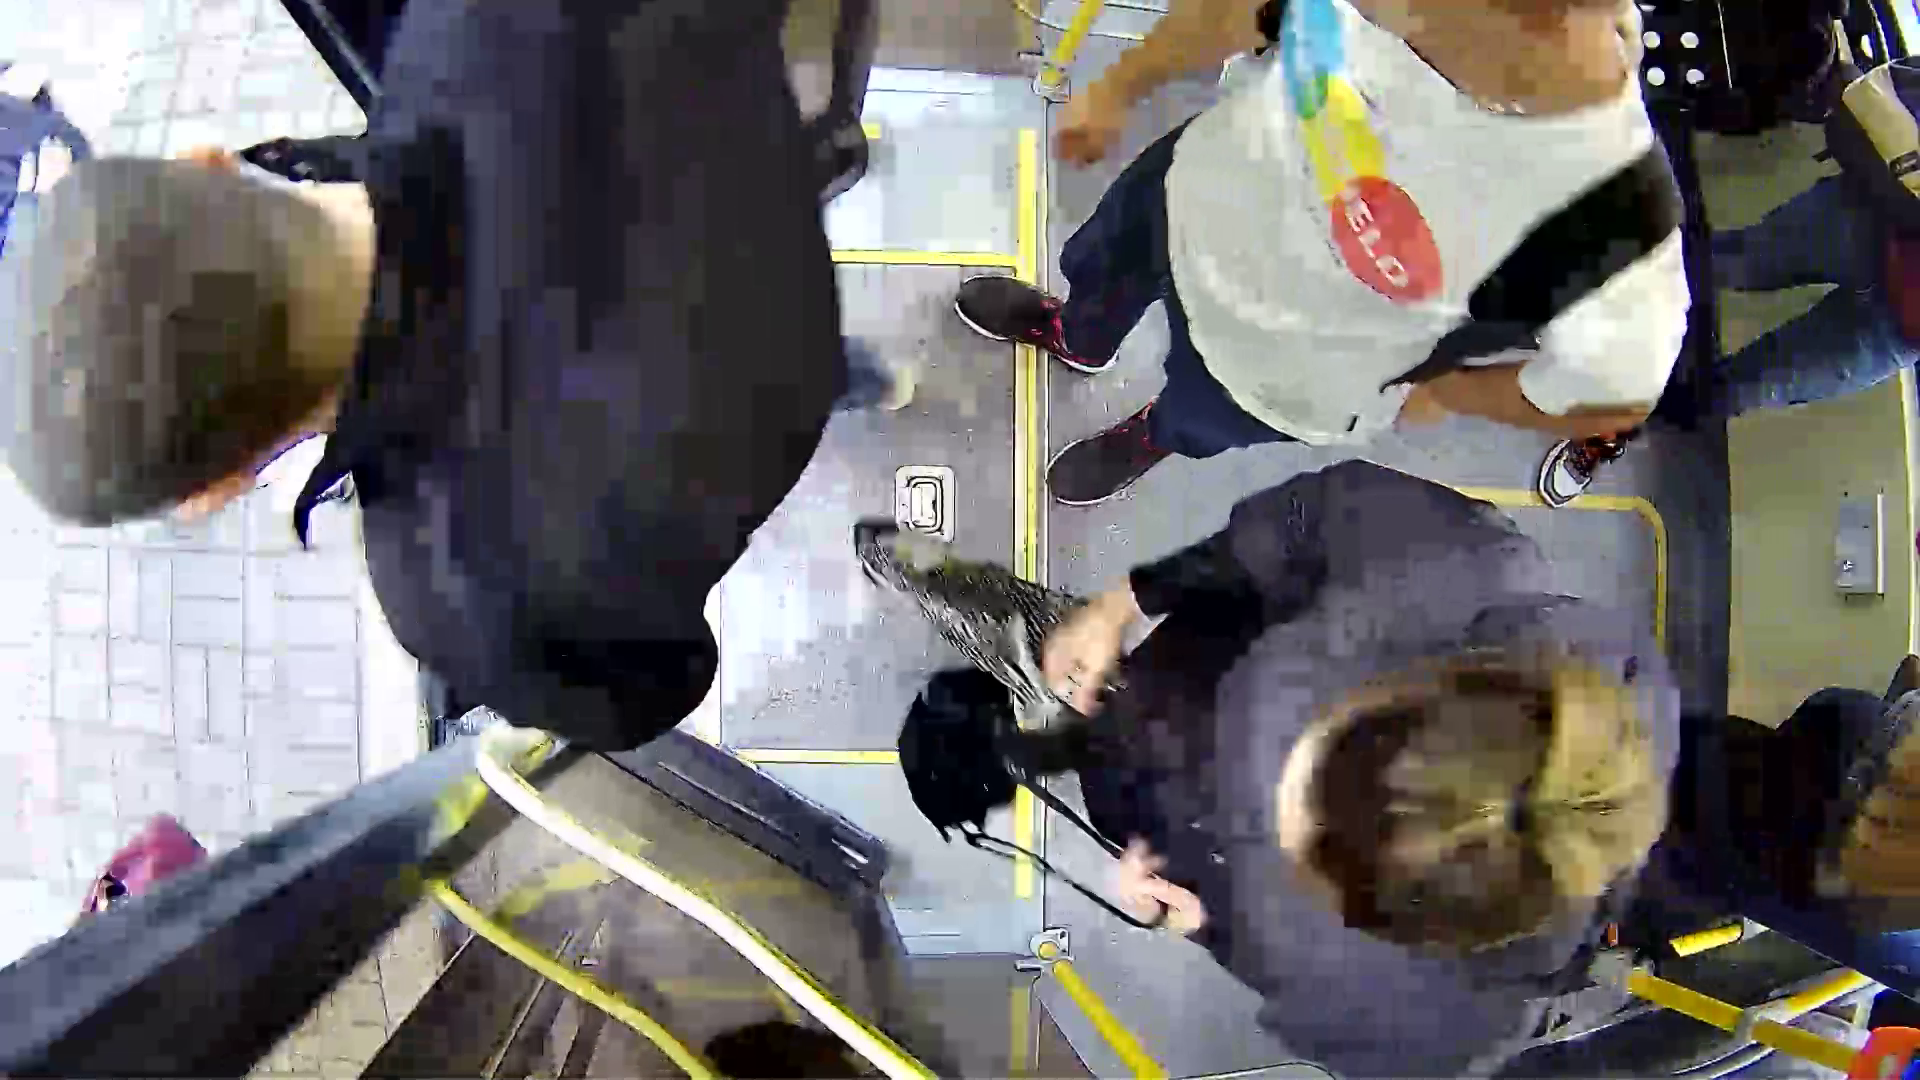person: (10, 5, 945, 754), (1007, 423, 1765, 1044)
